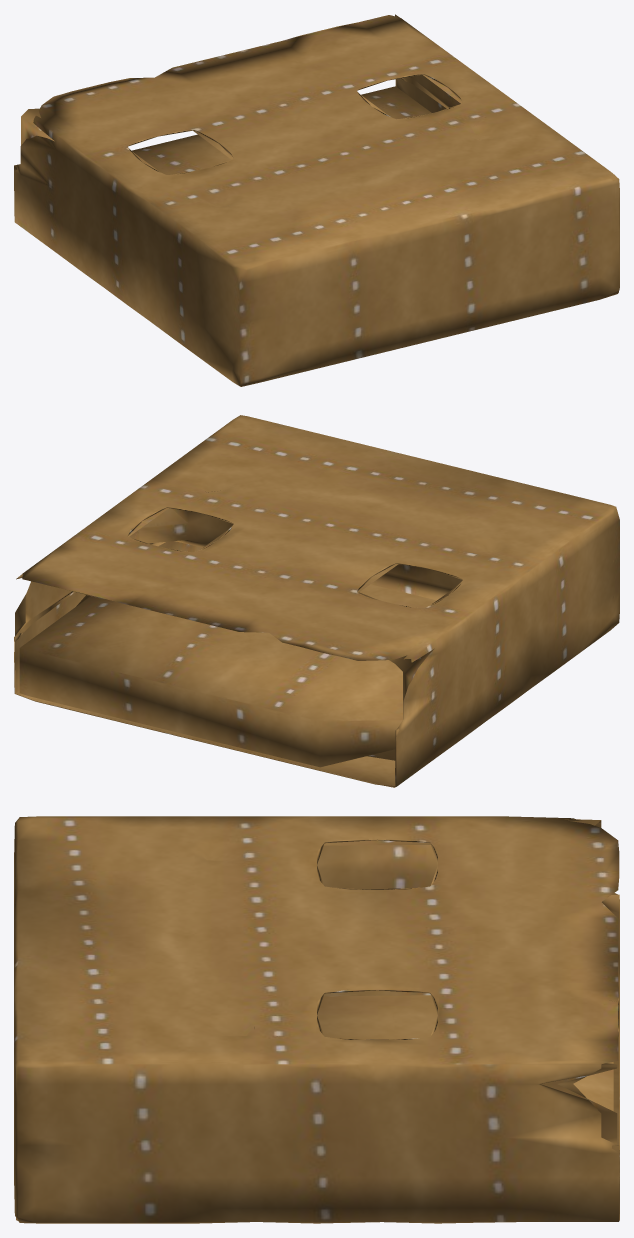
The model's file is usbsoft.glb.
3 renders of one model, top to bottom at view 1: azimuth 30°, elevation 25°; view 2: azimuth 150°, elevation 25°; view 3: azimuth 270°, elevation 25°, orthographic. The views are drawn at different scales.
Visible parts, largest first — view 1: Box002; view 2: Box002; view 3: Box002.
Part boxes in pixels (x1,y1,x2,y2): Box002: (14, 14, 619, 386); Box002: (14, 415, 619, 787); Box002: (14, 816, 619, 1223).
Size of the model in its own units: 3.96 by 1.18 by 4.04.
Materials: 1 (1 with a texture image).
